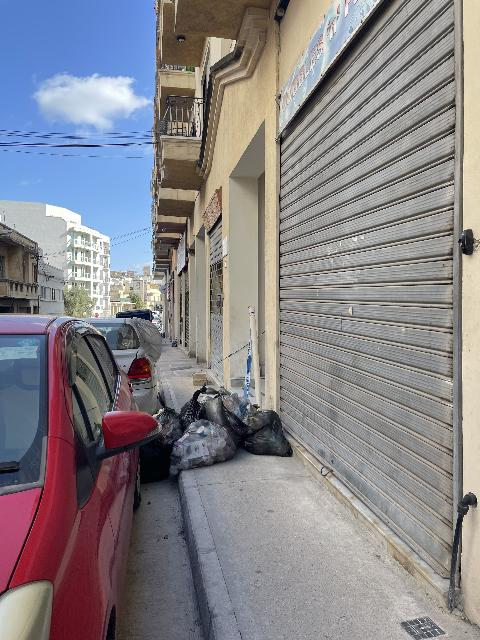Recyclable -Grey-: (139, 394, 184, 484), (170, 420, 234, 475), (244, 410, 291, 456), (220, 393, 267, 438), (180, 388, 203, 430), (199, 396, 227, 425)
